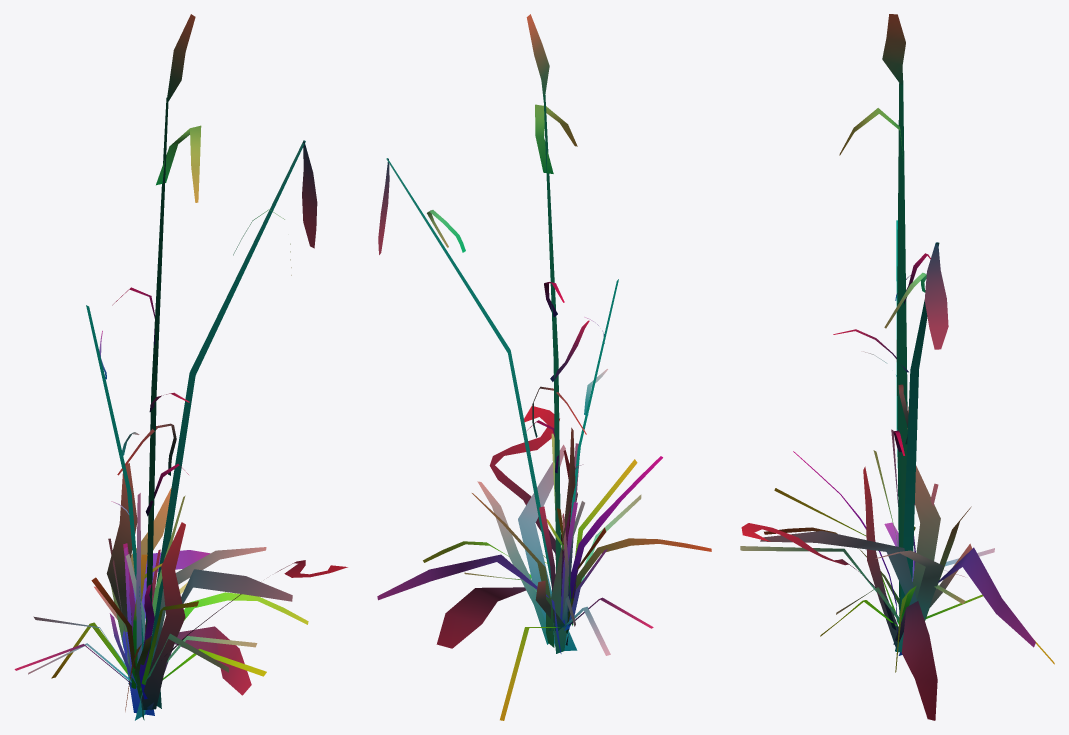
The model's file is Wheat_Grass_tdcrdbur_Low_tdcrdbur_VarD_LOD1.fbx.
3 renders of one model, left to right at view 1: azimuth 30°, elevation 25°; view 2: azimuth 150°, elevation 25°; view 3: azimuth 270°, elevation 25°, orthographic. The views are drawn at different scales.
Visible parts, largest first — view 1: _ec20_VarD_LOD2; view 2: _ec20_VarD_LOD2; view 3: _ec20_VarD_LOD2.
Part boxes in pixels (box(x1,y1,x2,y2)): _ec20_VarD_LOD2: box(14, 14, 347, 720); _ec20_VarD_LOD2: box(377, 14, 711, 720); _ec20_VarD_LOD2: box(740, 14, 1054, 720).
Bounding box in the file's own units: 49.18 × 111 × 46.84.
